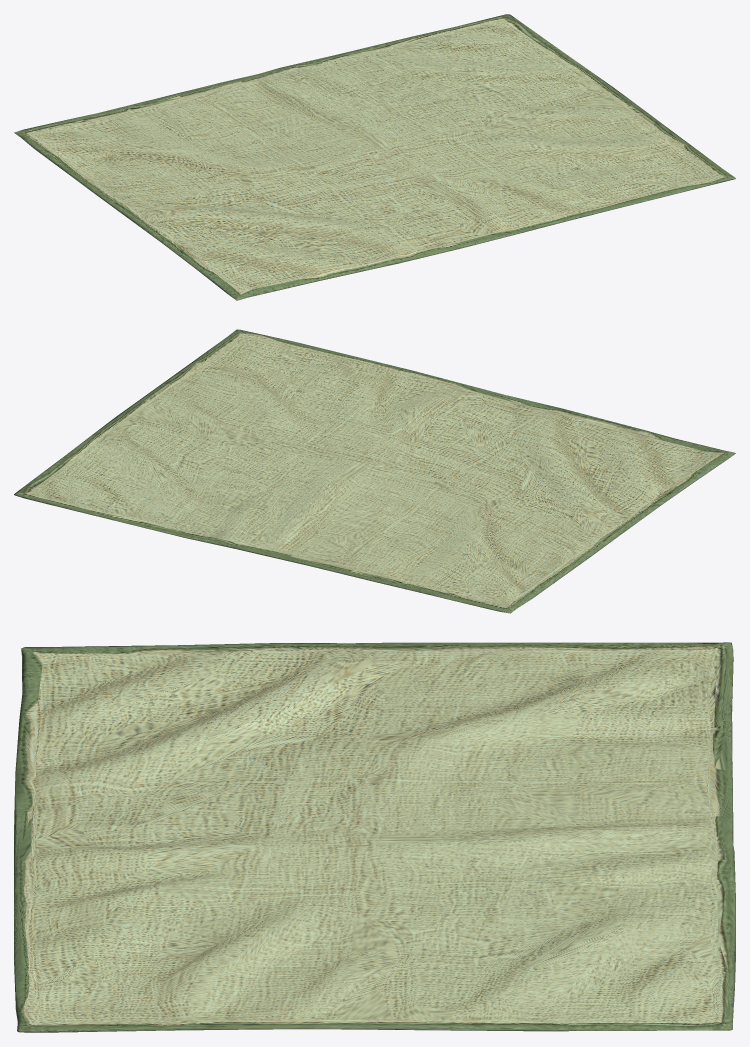
Rendered from mat-mabel-v1.glb.
3 renders of one model, top to bottom at view 1: azimuth 30°, elevation 25°; view 2: azimuth 150°, elevation 25°; view 3: azimuth 270°, elevation 25°, orthographic. The views are drawn at different scales.
Visible parts, largest first — view 1: tripo_node_36f22074-dbb4-4a1d-b3dc-c9806141963d; view 2: tripo_node_36f22074-dbb4-4a1d-b3dc-c9806141963d; view 3: tripo_node_36f22074-dbb4-4a1d-b3dc-c9806141963d.
Boxes of the visible parts, bbox=[...] form: tripo_node_36f22074-dbb4-4a1d-b3dc-c9806141963d: bbox=[14, 14, 735, 300]; tripo_node_36f22074-dbb4-4a1d-b3dc-c9806141963d: bbox=[14, 329, 735, 613]; tripo_node_36f22074-dbb4-4a1d-b3dc-c9806141963d: bbox=[14, 642, 735, 1032].
Bounding box in the file's own units: 0.9495 × 0.0183 × 0.7494.
1 material, 1 textured.
